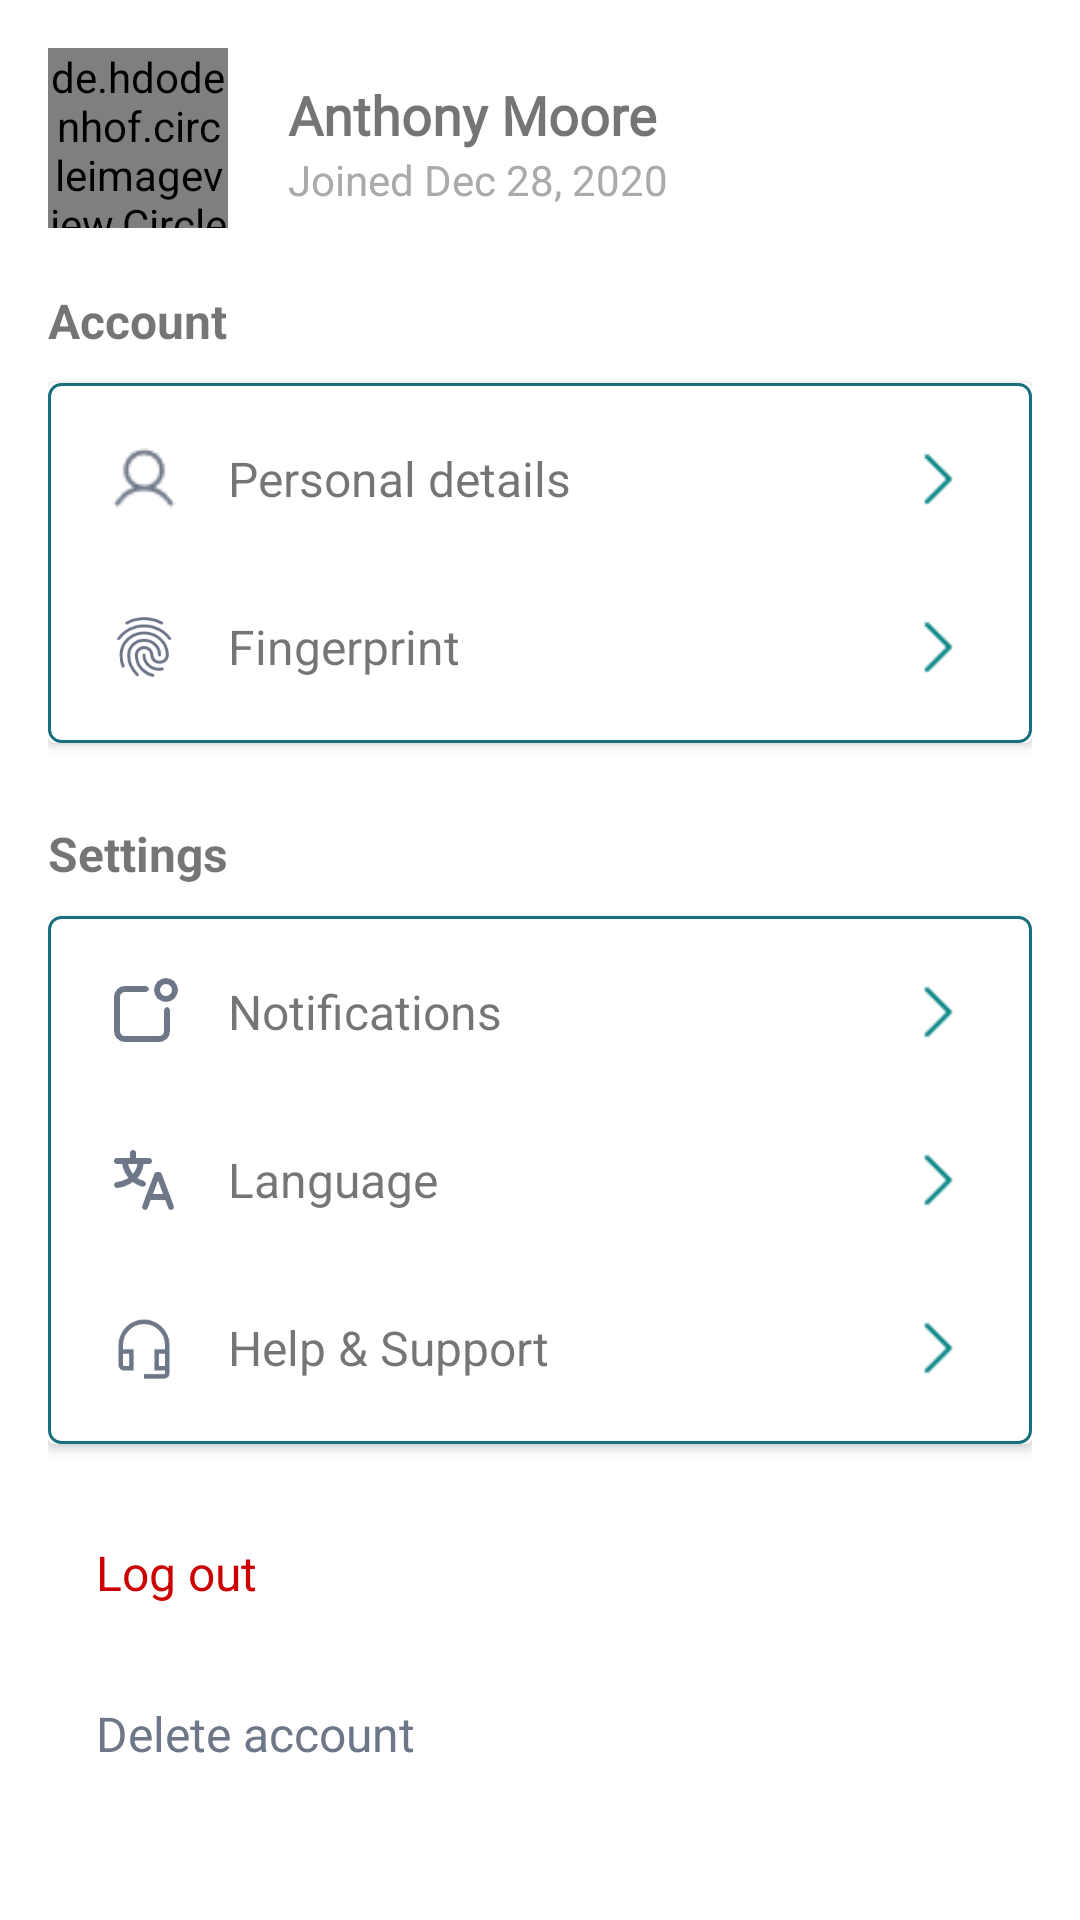

Locate icon controls on the screen. Image size 1080px x 1920px, boxes as (x1, y1, x2, y2).
arrowright: (924, 453, 953, 505), (924, 621, 953, 673), (924, 986, 953, 1038), (924, 1154, 953, 1206), (924, 1322, 953, 1374)
user: (114, 449, 174, 507)
